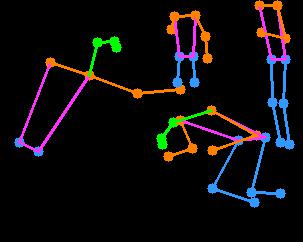normal: (158, 6, 216, 93)
